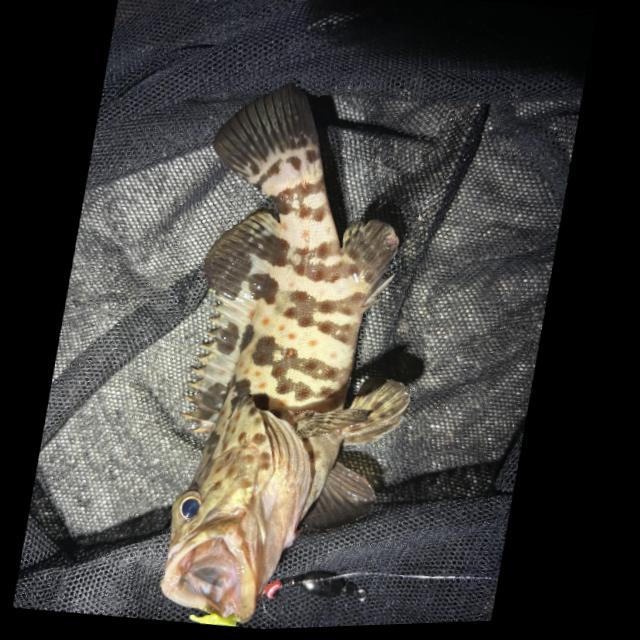Groupers: (131, 69, 462, 634)
